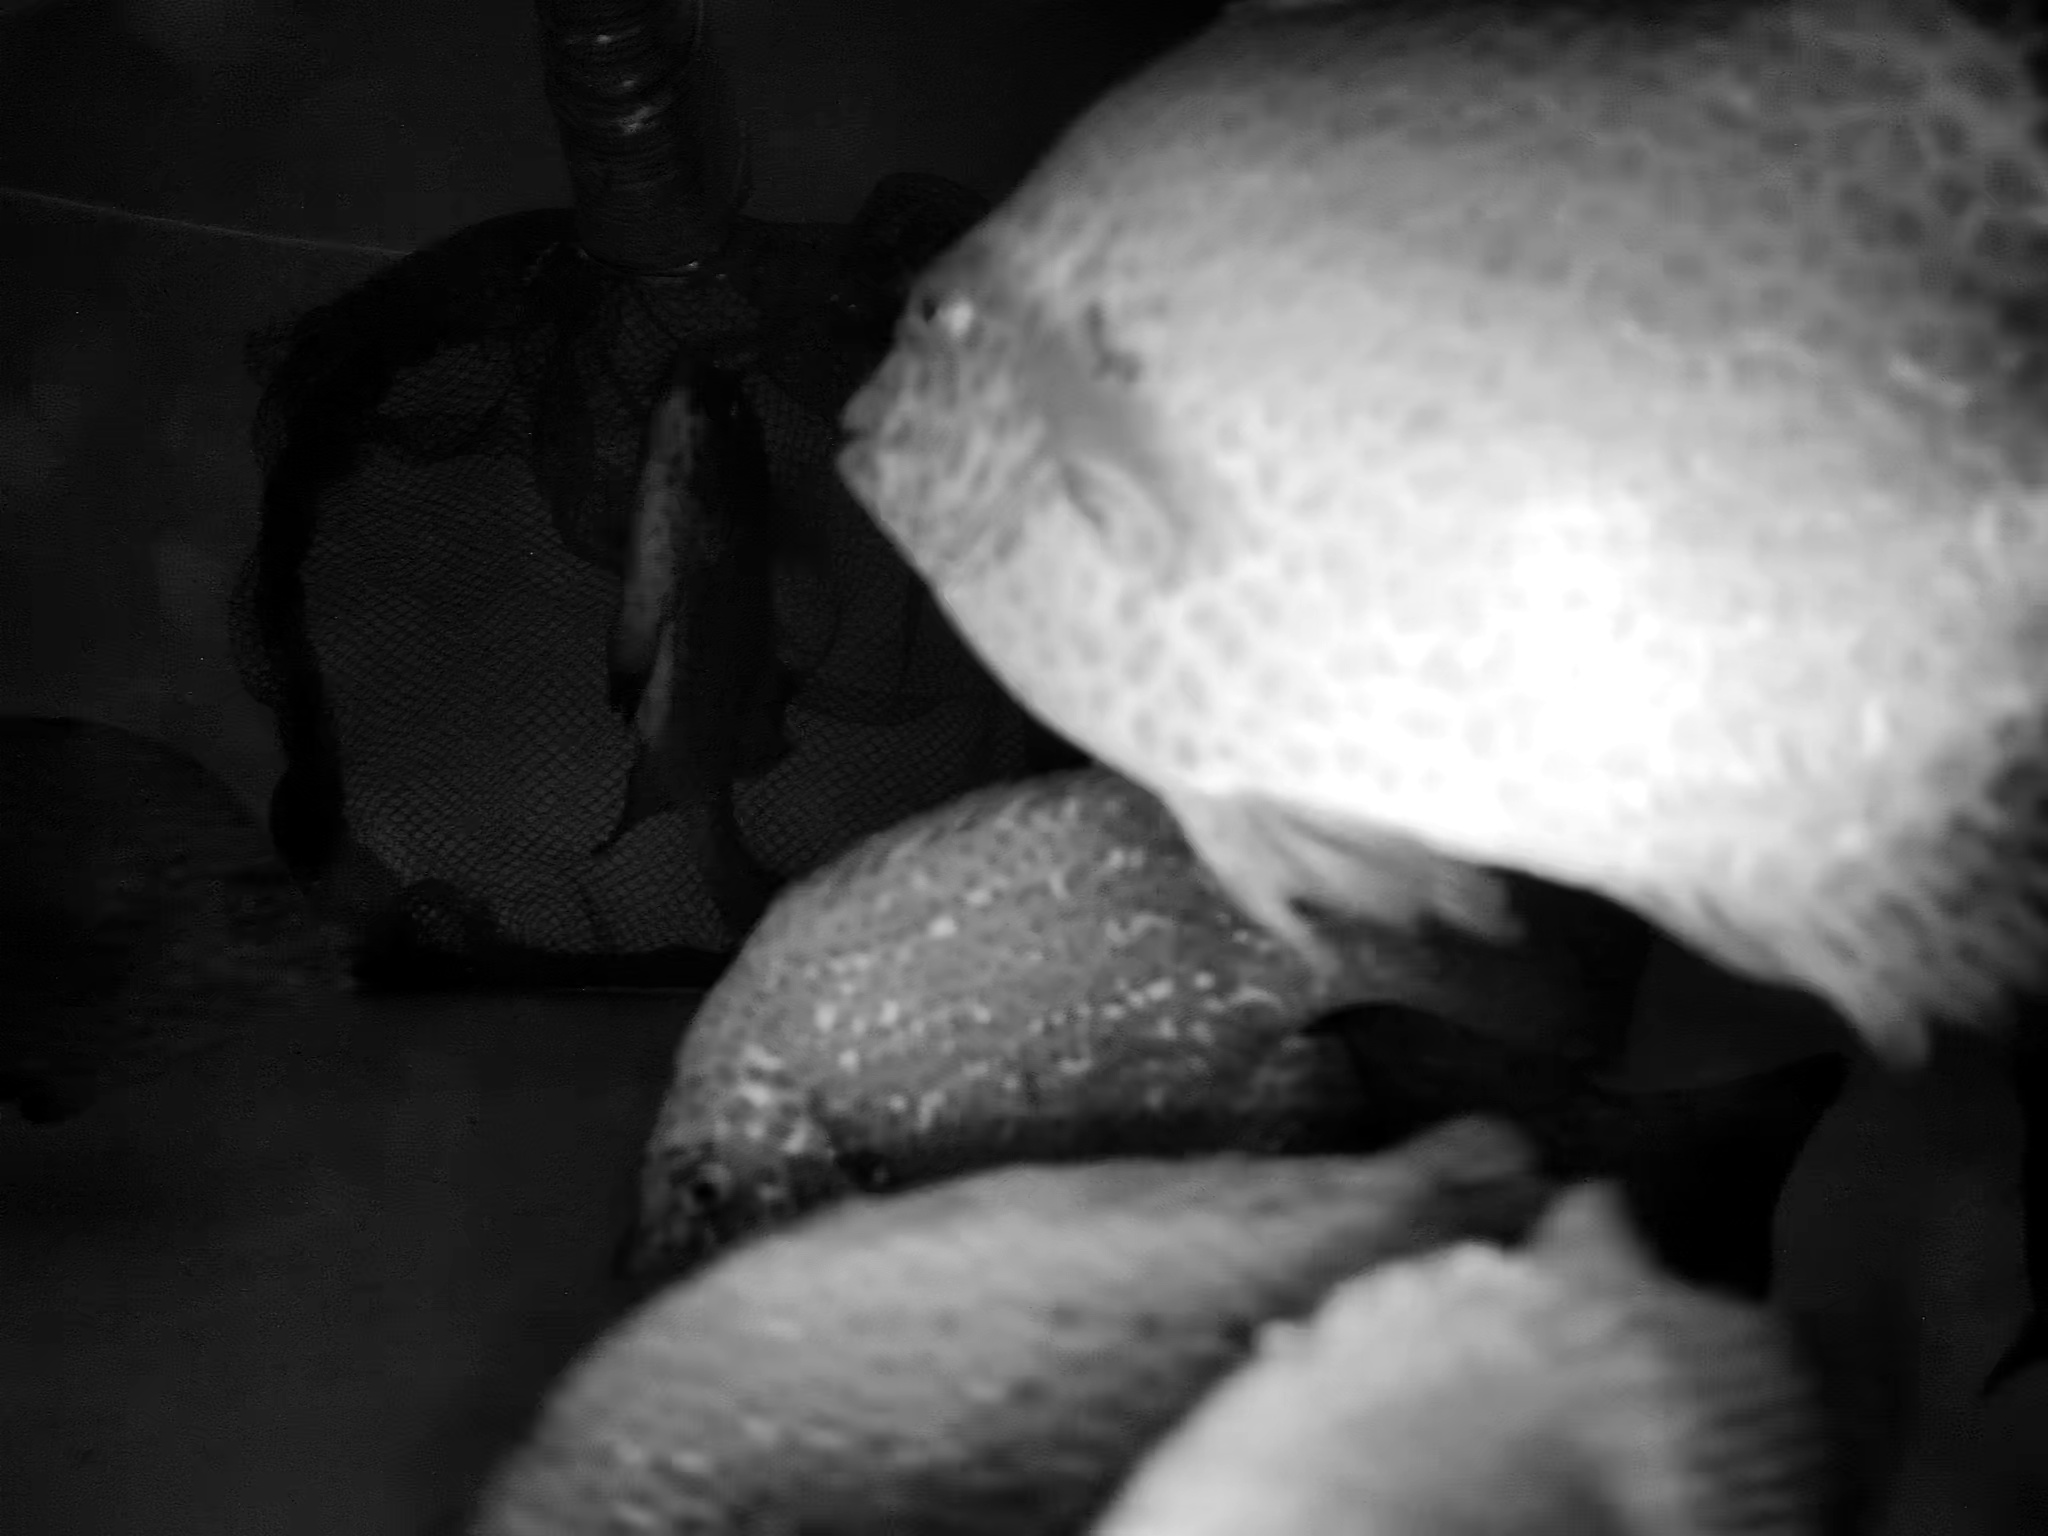fish: (842, 32, 2048, 1023), (484, 1121, 1551, 1528), (610, 763, 1509, 1202), (1121, 1217, 1906, 1536), (581, 379, 766, 752)
